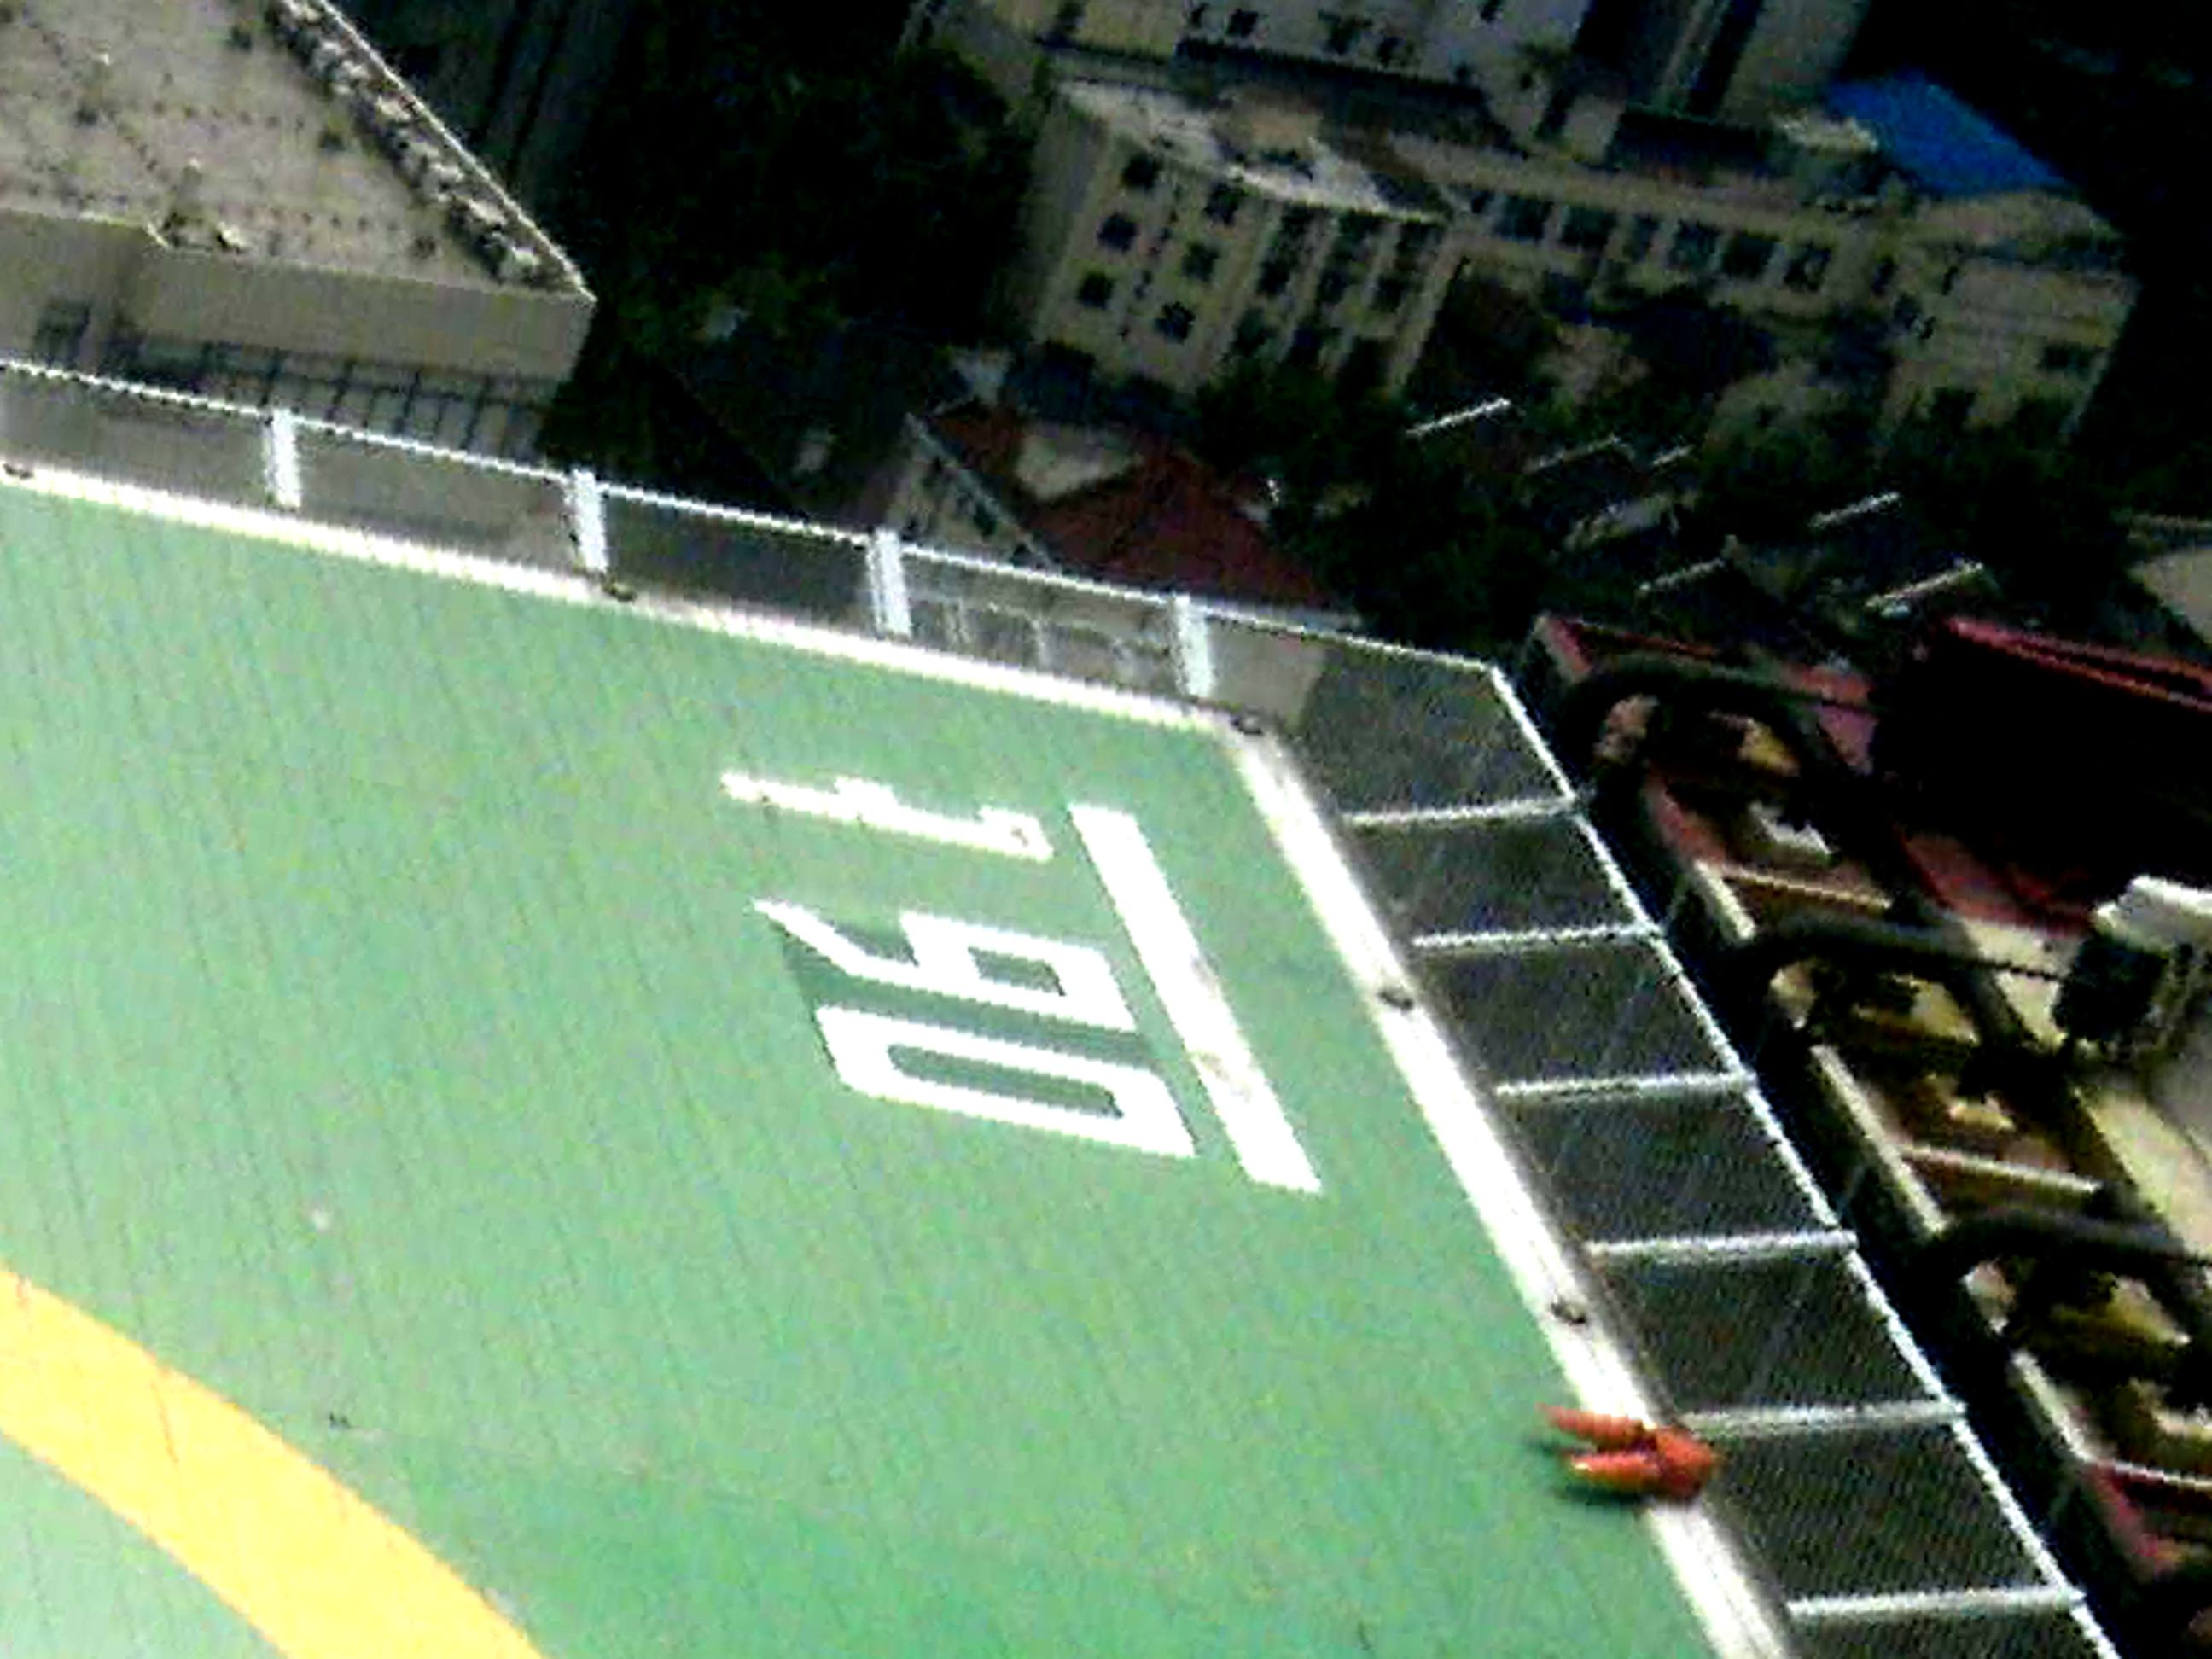Apron: (5, 1249, 582, 1645)
